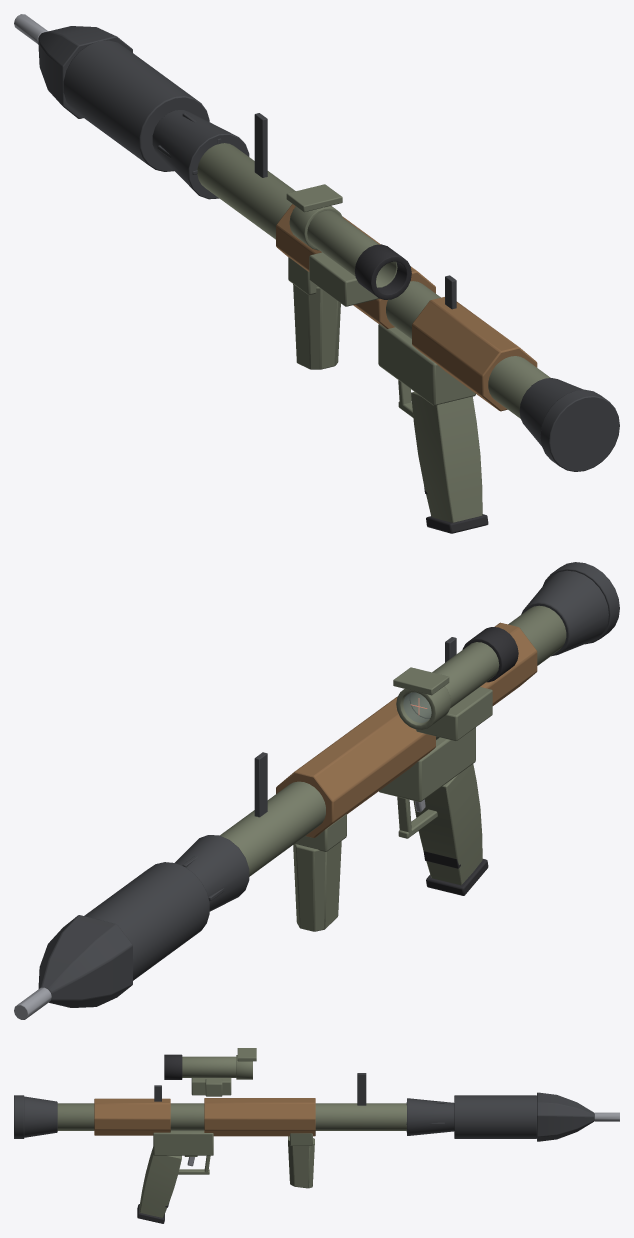
The model's file is bazooka_rpg.glb.
The picture shows the model from 3 angles, top to bottom: view 1: azimuth 30°, elevation 25°; view 2: azimuth 150°, elevation 25°; view 3: azimuth 270°, elevation 25°; orthographic projection. The views are drawn at different scales.
Visible parts, largest first — view 1: bazooka_rpg, Misil; view 2: bazooka_rpg, Misil, Cristal; view 3: bazooka_rpg, Misil.
Part boxes in pixels (<box>): bazooka_rpg: <box>197,113,619,533</box>; Misil: <box>14,14,249,199</box>; bazooka_rpg: <box>220,562,619,931</box>; Misil: <box>14,835,249,1019</box>; Cristal: <box>403,692,431,722</box>; bazooka_rpg: <box>14,1048,406,1223</box>; Misil: <box>406,1092,619,1141</box>.
Size of the model in its own units: 0.1065 by 0.264 by 0.951.
